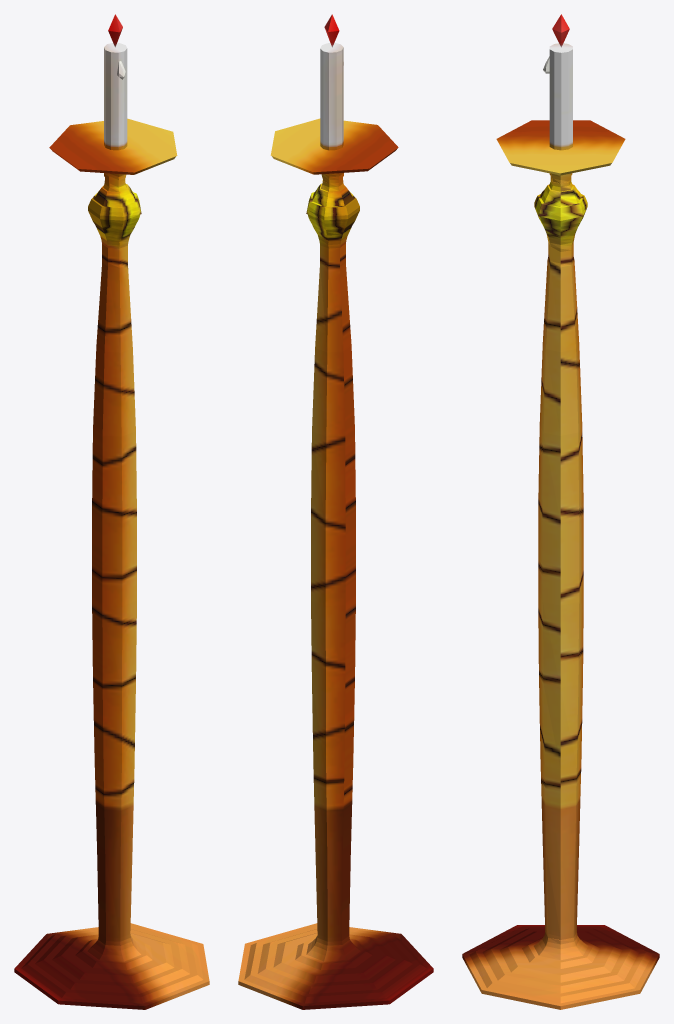
The model's file is Candle.glb.
3 views of the same model, side by side, from view 1: azimuth 30°, elevation 25°; view 2: azimuth 150°, elevation 25°; view 3: azimuth 270°, elevation 25° (orthographic).
Parts seen in each view (by area): view 1: Candle; view 2: Candle; view 3: Candle.
Boxes of the visible parts, x1,y1,x2,y2 form: Candle: (14,14,209,1009); Candle: (238,14,433,1009); Candle: (462,14,659,1009).
Bounding box in the file's own units: 51.4 × 282 × 52.72.
Materials: 1 (1 with a texture image).
